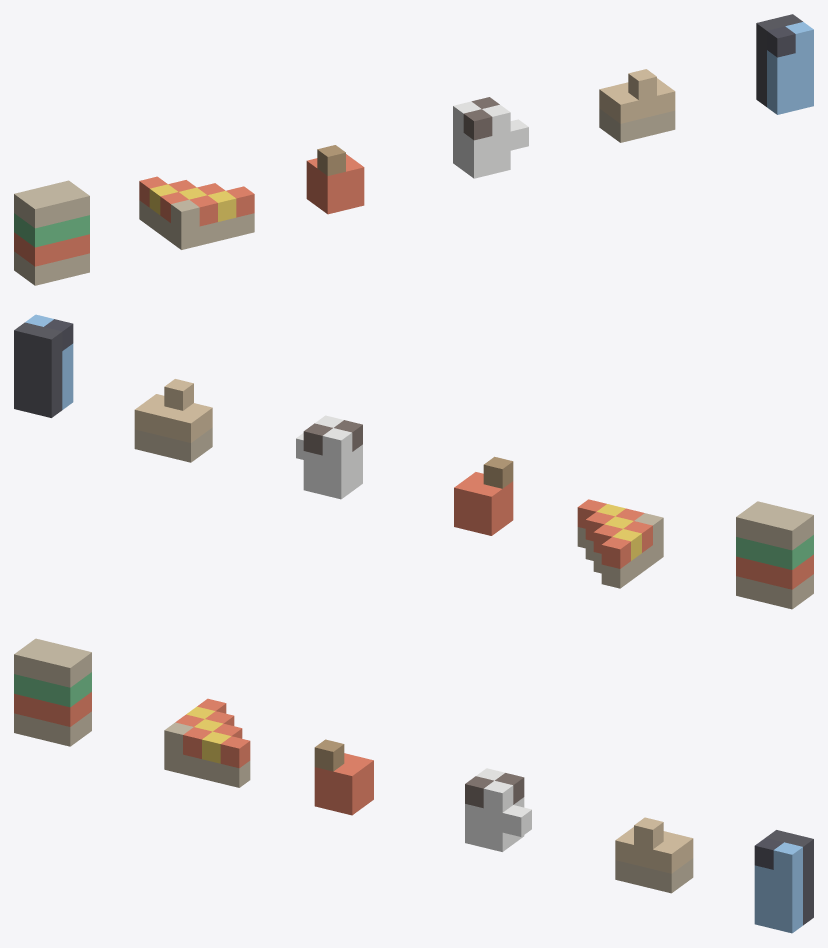
File: cibo.glb
3 renders of one model, top to bottom at view 1: azimuth 30°, elevation 25°; view 2: azimuth 150°, elevation 25°; view 3: azimuth 330°, elevation 25°, orthographic. The views are drawn at different scales.
Visible parts, largest first — view 1: cibo_panino, cibo_pizza, cibo_telefono, cibo_tazza, cibo_brioche, cibo_mela; view 2: cibo_panino, cibo_pizza, cibo_telefono, cibo_brioche, cibo_tazza, cibo_mela; view 3: cibo_panino, cibo_pizza, cibo_telefono, cibo_brioche, cibo_tazza, cibo_mela.
Part boxes in pixels (left/top/right/bottom): cibo_panino: left=14, top=180, right=89, bottom=285; cibo_pizza: left=139, top=176, right=254, bottom=249; cibo_telefono: left=756, top=14, right=813, bottom=114; cibo_tazza: left=453, top=97, right=528, bottom=178; cibo_brioche: left=599, top=69, right=675, bottom=142; cibo_mela: left=306, top=145, right=364, bottom=214; cibo_panino: left=736, top=501, right=813, bottom=609; cibo_pizza: left=577, top=499, right=663, bottom=588; cibo_telefono: left=14, top=314, right=73, bottom=417; cibo_brioche: left=134, top=379, right=212, bottom=462; cibo_tazza: left=296, top=415, right=362, bottom=499; cibo_mela: left=454, top=456, right=513, bottom=535; cibo_panino: left=14, top=638, right=91, bottom=746; cibo_pizza: left=164, top=698, right=250, bottom=787; cibo_telefono: left=754, top=830, right=813, bottom=933; cibo_brioche: left=615, top=817, right=693, bottom=893; cibo_tazza: left=465, top=768, right=531, bottom=851; cibo_mela: left=314, top=739, right=373, bottom=815.
Bounding box in the file's own units: 2.1 × 0.2 × 0.25.
